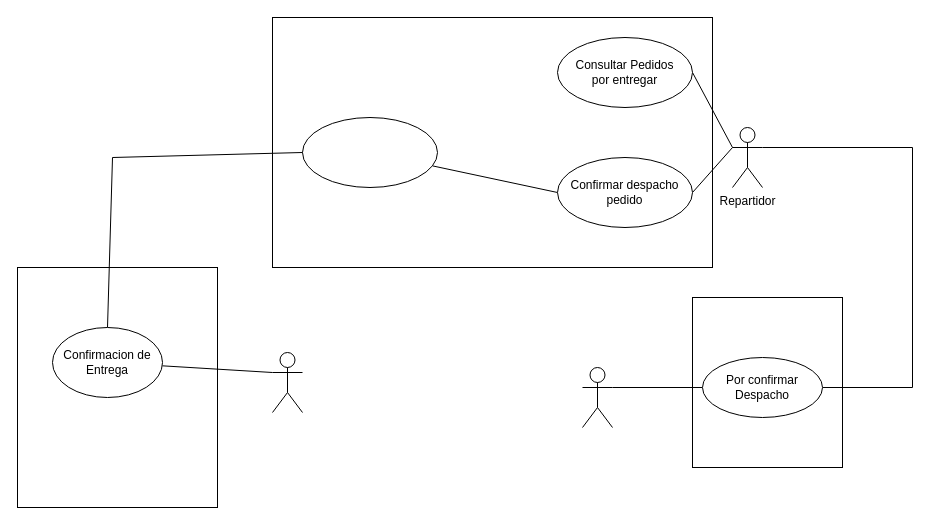
This 931x525 diagram has some shape labels left out. The shapes that lost their labels are listed below. From the top down, each one's centre as x and y in pixels, then its label:
[370,152]: Verificacion de Entrega (mediante foto)
[287,382]: Cliente
[597,397]: Cocinero
